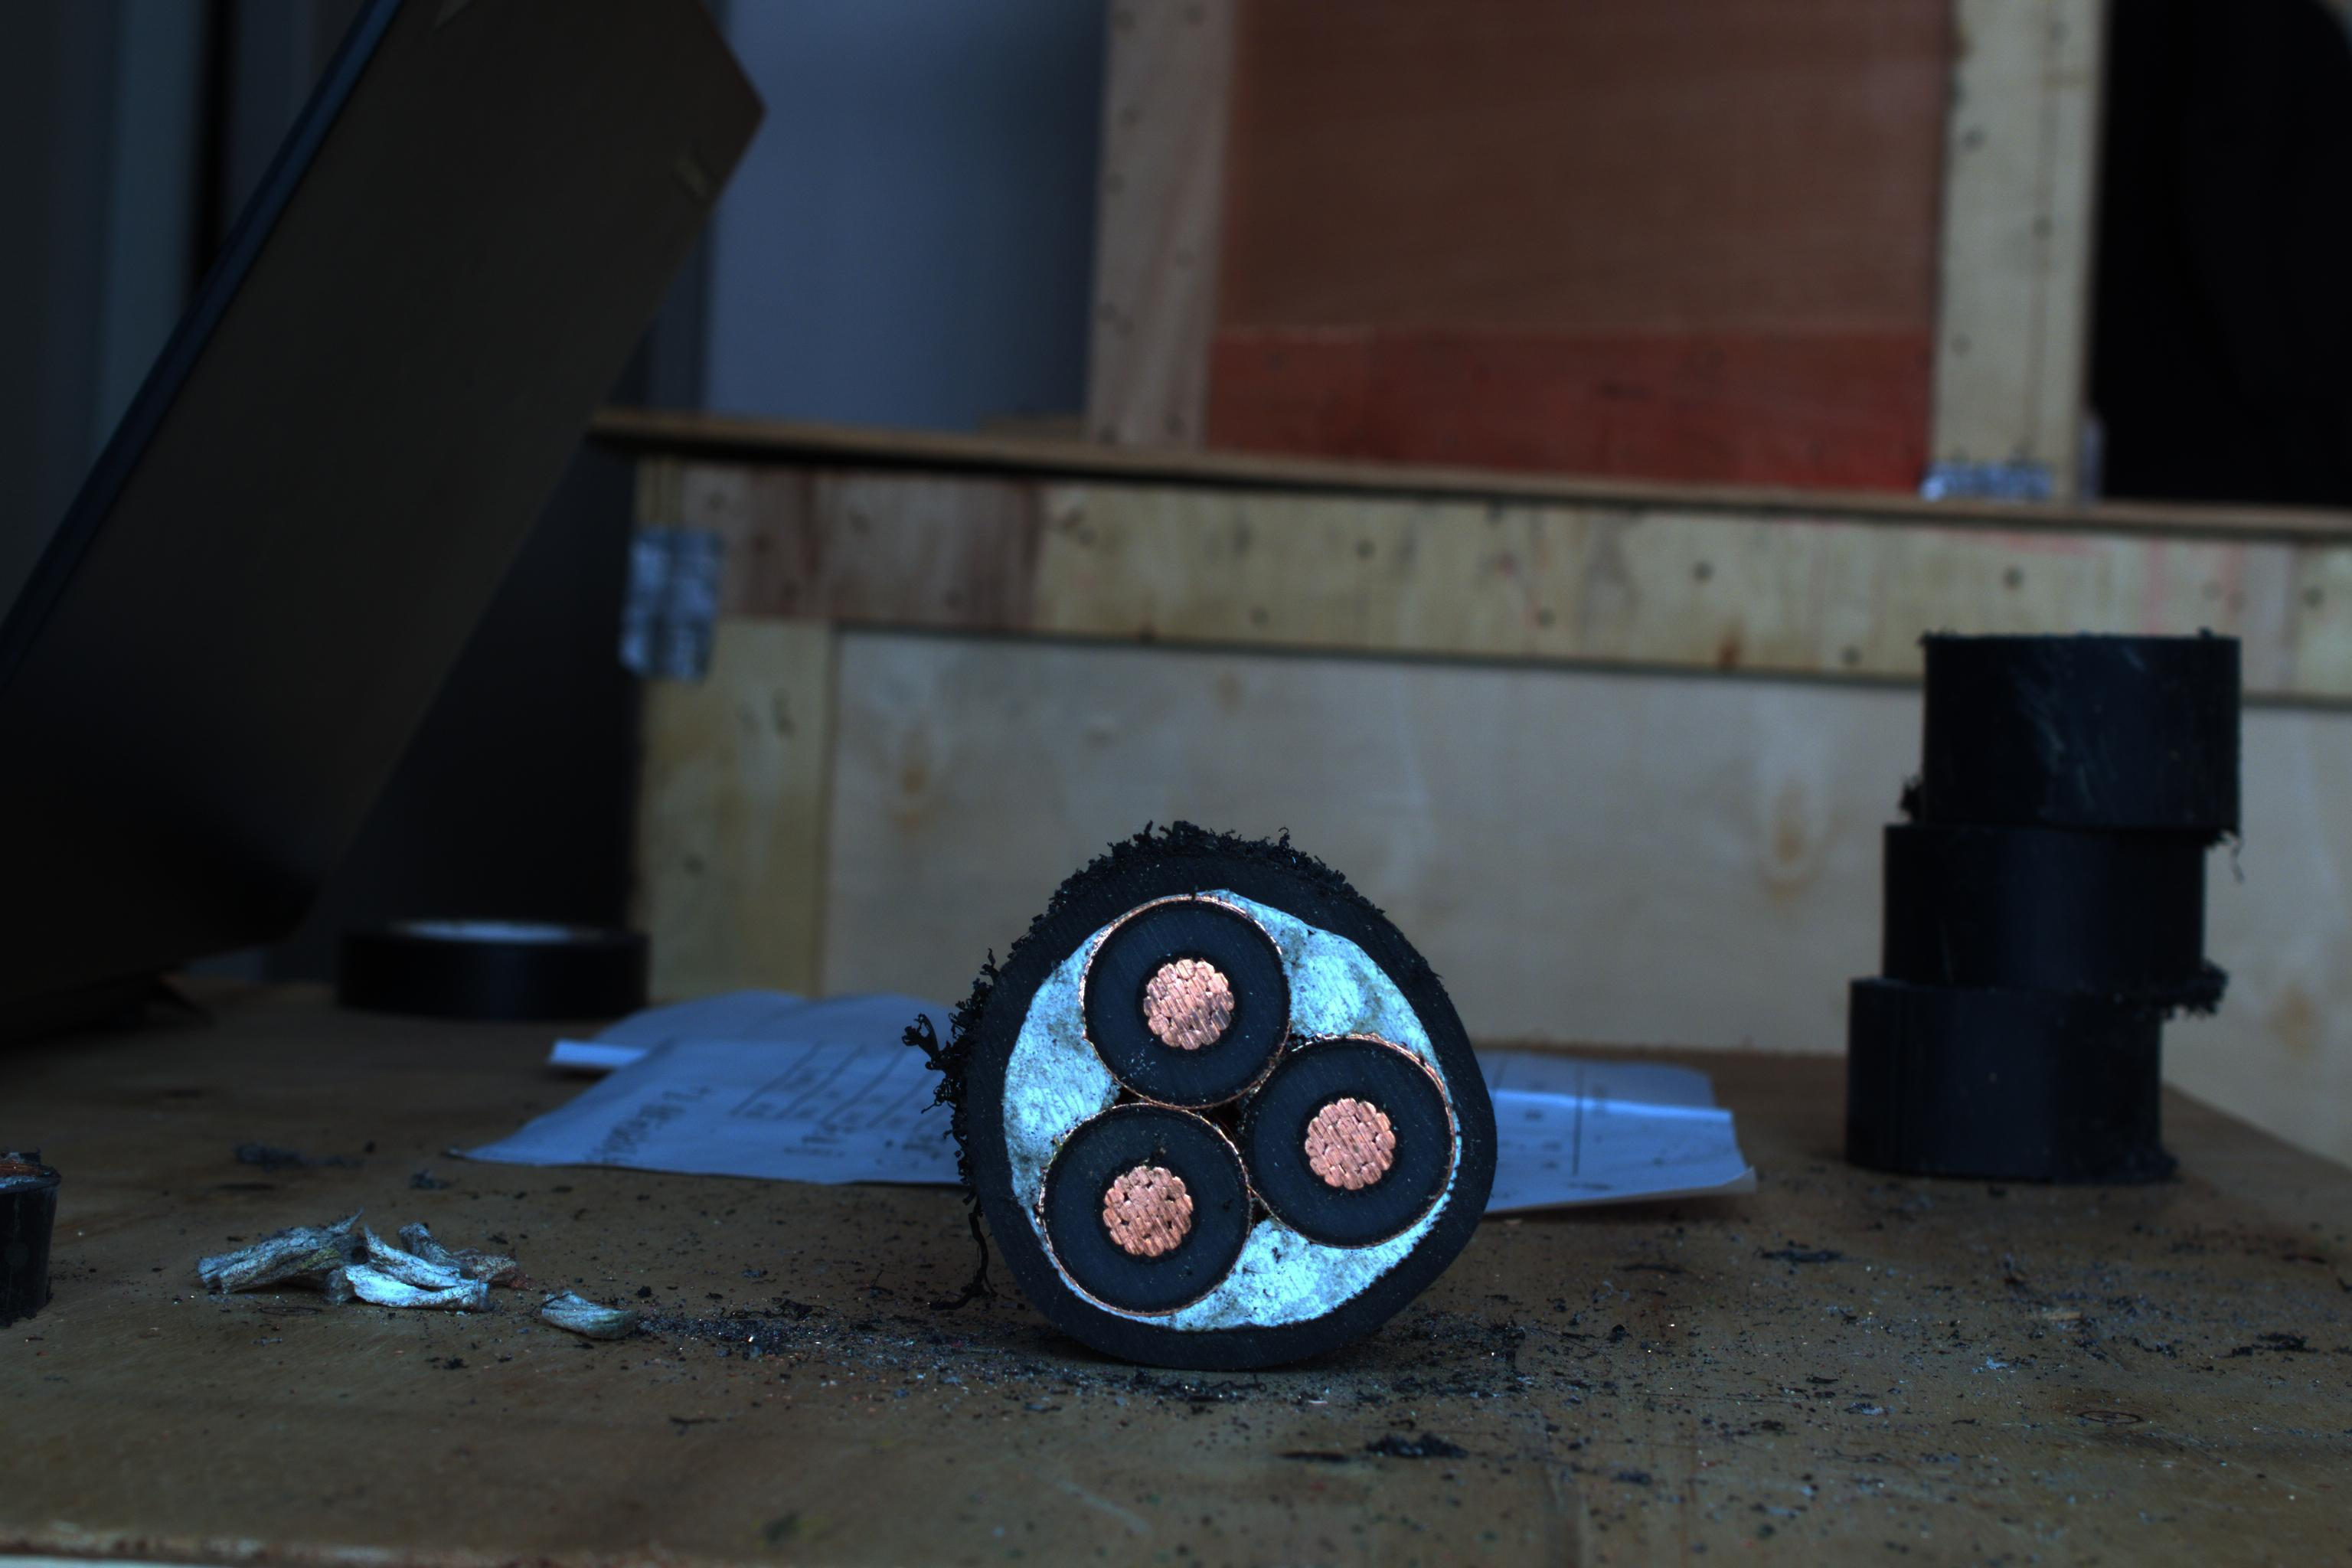YJV_8.7_10kV_3x70: (947, 857, 1505, 1347)
